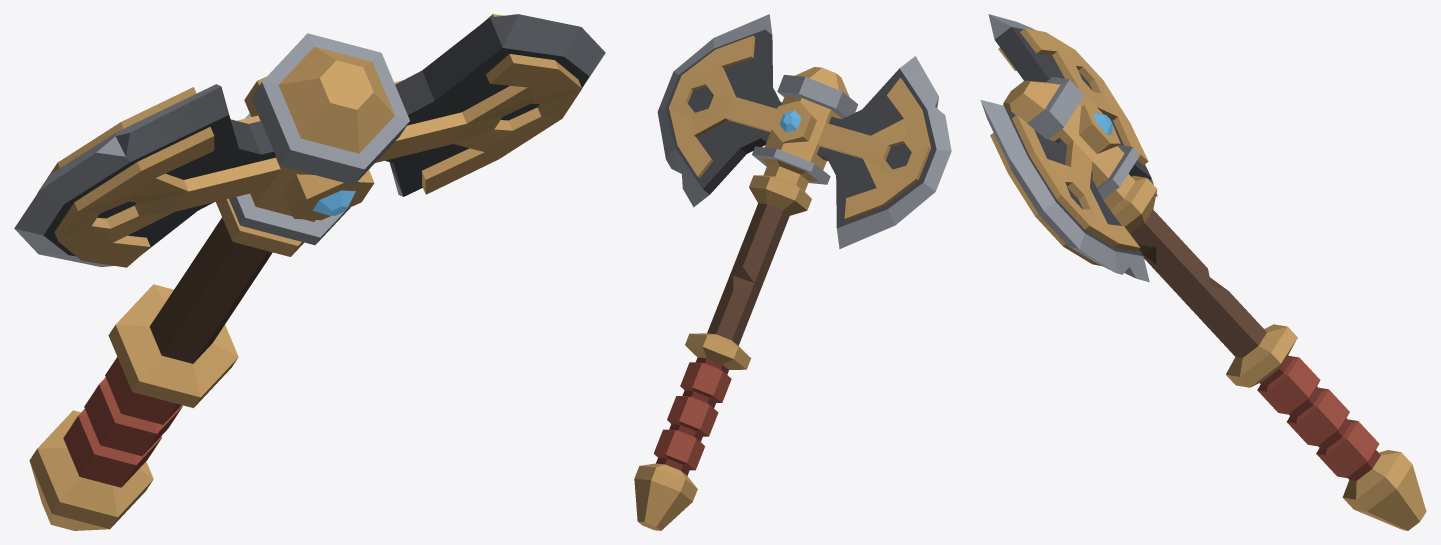
Rendered from dr-axe-small-01.glb.
3 views of the same model, side by side, from view 1: azimuth 30°, elevation 25°; view 2: azimuth 150°, elevation 25°; view 3: azimuth 270°, elevation 25° (orthographic). The views are drawn at different scales.
Parts seen in each view (by area): view 1: dr-axe-small-01; view 2: dr-axe-small-01; view 3: dr-axe-small-01.
Part boxes in pixels (x1,y1,x2,y2): dr-axe-small-01: (14, 14, 605, 530); dr-axe-small-01: (634, 14, 951, 530); dr-axe-small-01: (980, 14, 1426, 530).
Bounding box in the file's own units: 0.4023 × 0.507 × 0.4416.
1 material, 1 textured.
